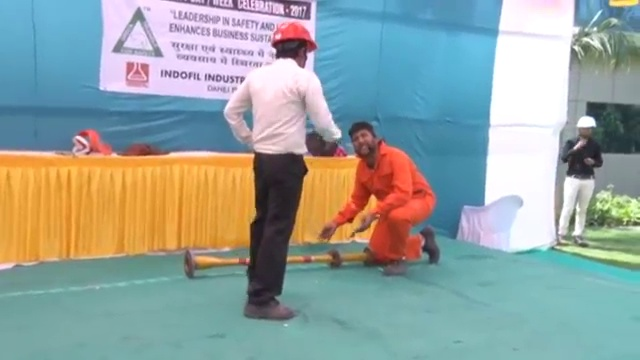helmet: (269, 21, 317, 51), (577, 115, 598, 131)
helmet_off: (349, 121, 378, 157)
helmet_on: (268, 20, 318, 68), (574, 113, 599, 142)
person: (224, 19, 344, 322), (321, 120, 443, 276), (560, 114, 603, 247)
